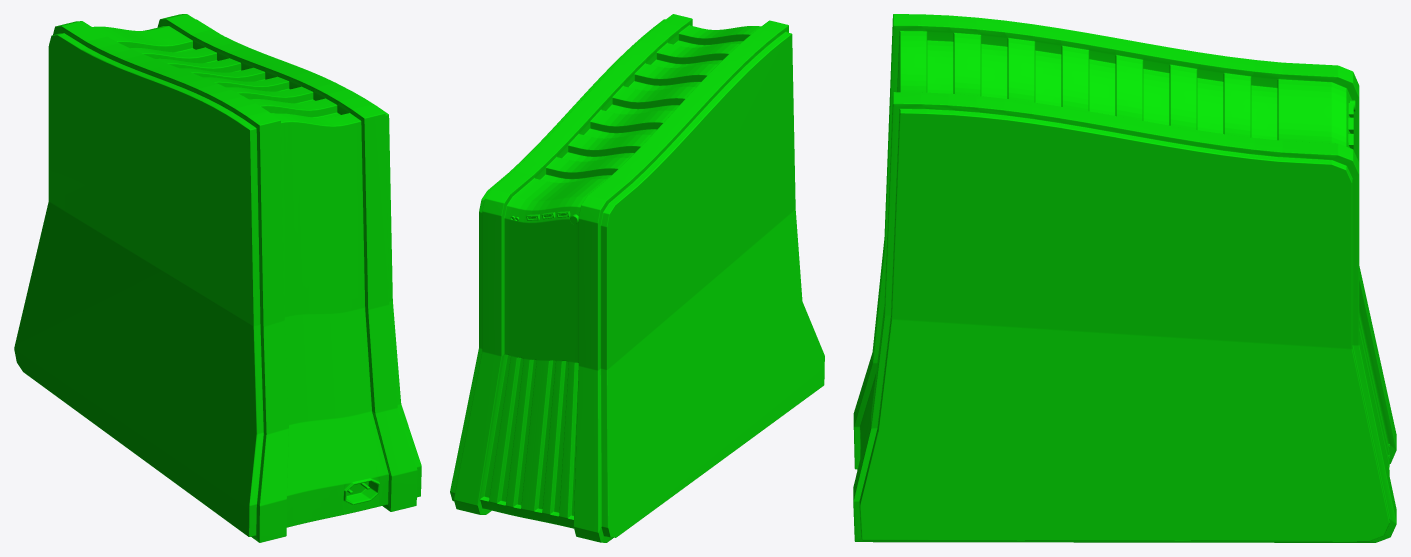
Rendered from PC_msh.fbx.
3 renders of one model, left to right at view 1: azimuth 30°, elevation 25°; view 2: azimuth 150°, elevation 25°; view 3: azimuth 270°, elevation 25°, orthographic. The views are drawn at different scales.
Parts seen in each view (by area): view 1: PC_msh; view 2: PC_msh; view 3: PC_msh.
Part boxes in pixels (x1=…): PC_msh: x1=14, y1=14, x2=421, y2=542; PC_msh: x1=450, y1=14, x2=824, y2=542; PC_msh: x1=853, y1=14, x2=1396, y2=542.
Size of the model in its own units: 24.7 by 55.22 by 60.07.
